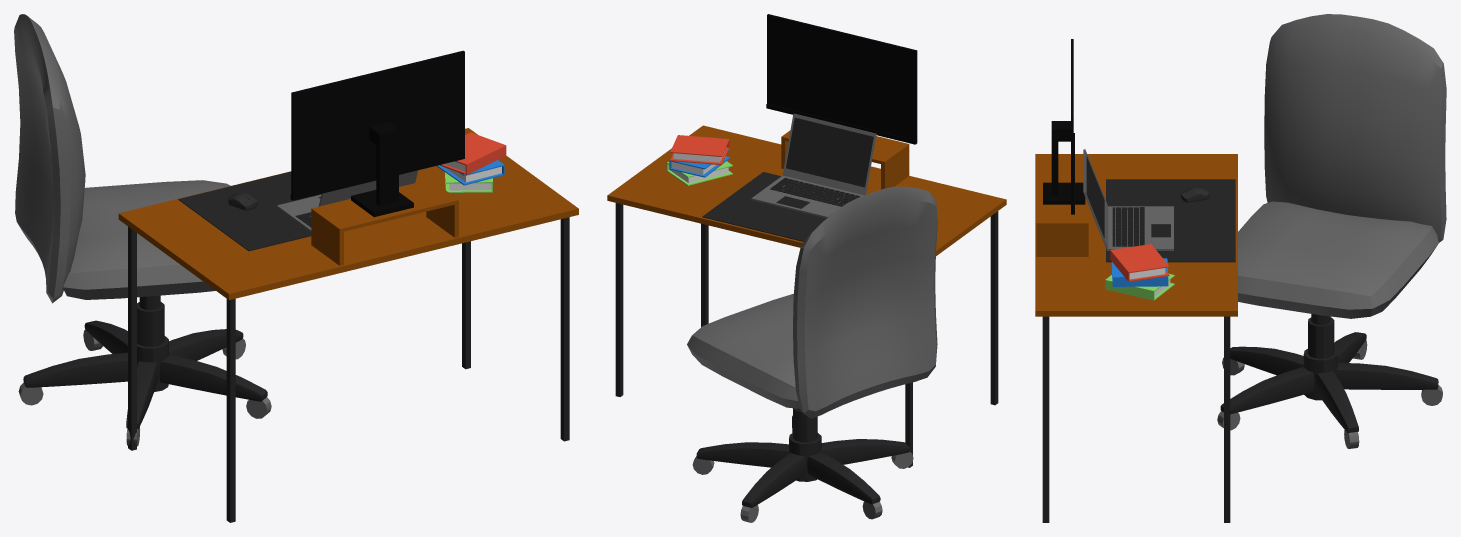
Rendered from Laptop Showcase1.fbx.
3 views of the same model, side by side, from view 1: azimuth 30°, elevation 25°; view 2: azimuth 150°, elevation 25°; view 3: azimuth 270°, elevation 25° (orthographic). The views are drawn at different scales.
Parts seen in each view (by area): view 1: Office Chair, Table, Monitor, Monitor Stand, Book.001, Cube.001, Laptop; view 2: Office Chair, Table, Monitor, Cube.001, Book.001, Laptop, Monitor Stand; view 3: Office Chair, Table, Monitor Stand, Book.001, Laptop, Monitor, Cube.001.
Part boxes in pixels (box(x1,y1,x2,y2)): Office Chair: box(14, 14, 271, 446); Table: box(118, 128, 578, 522); Monitor: box(290, 50, 464, 217); Monitor Stand: box(311, 179, 458, 265); Book.001: box(436, 132, 506, 192); Cube.001: box(318, 170, 417, 206); Laptop: box(277, 194, 321, 231); Office Chair: box(687, 186, 937, 522); Table: box(607, 125, 1006, 467); Monitor: box(766, 14, 917, 144); Cube.001: box(782, 113, 876, 195); Book.001: box(666, 135, 732, 185); Laptop: box(751, 175, 863, 218); Monitor Stand: box(781, 130, 909, 189); Office Chair: box(1217, 14, 1446, 448); Table: box(1035, 154, 1237, 522); Monitor Stand: box(1036, 169, 1088, 256); Book.001: box(1105, 244, 1174, 300); Laptop: box(1107, 206, 1173, 250); Monitor: box(1043, 39, 1085, 214); Cube.001: box(1083, 149, 1108, 249).
Bounding box in the file's own units: 1.84 × 1.78 × 1.75.
